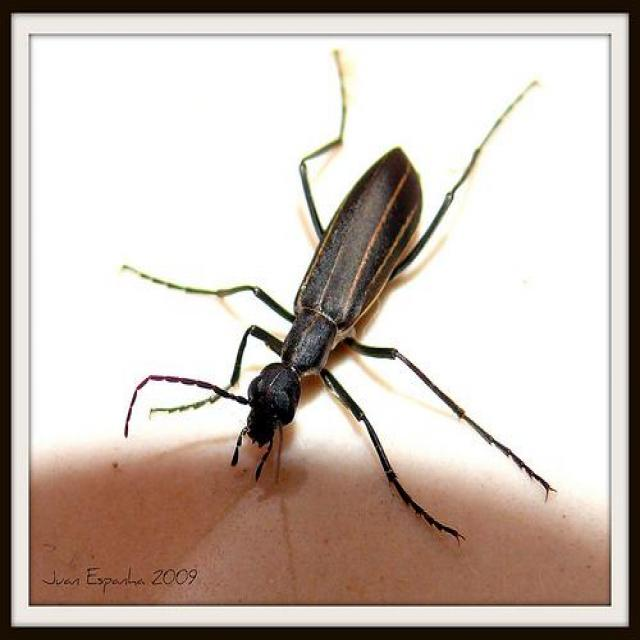BlisterBeetle-Adult-: (141, 43, 564, 516)
